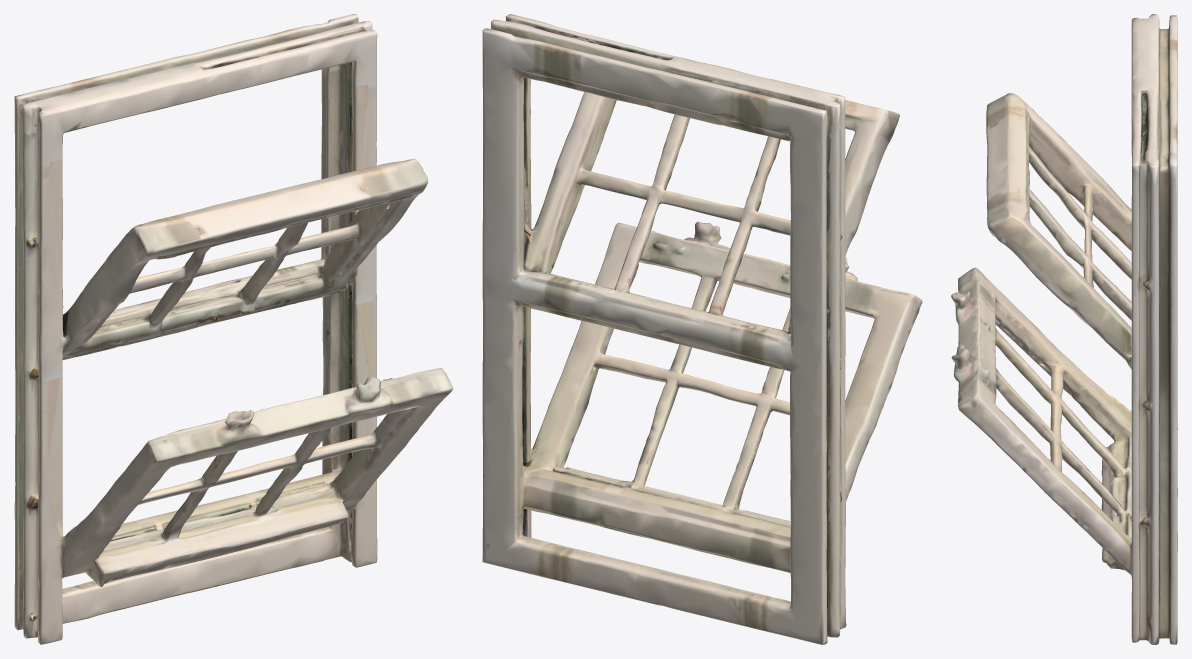
3 views of the same model, side by side, from view 1: azimuth 30°, elevation 25°; view 2: azimuth 150°, elevation 25°; view 3: azimuth 270°, elevation 25° (orthographic). The views are drawn at different scales.
Bounding box in the file's own units: 1.38 × 2.01 × 0.859.
Materials: 1 (1 with a texture image).
